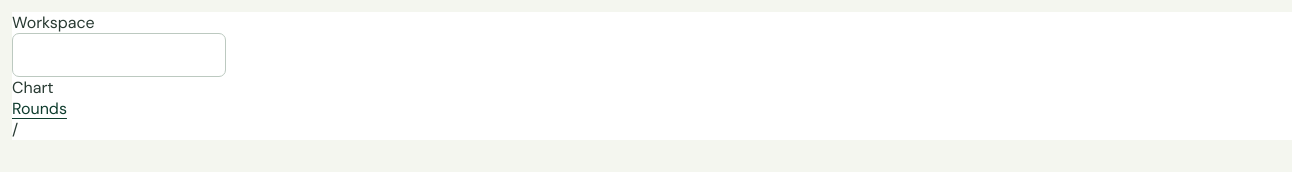
Test: Mobile navigation › supports direct links and keyboard shortcuts
Press ArrowRight in the text with test id "gesture", box [12,12,95,33]
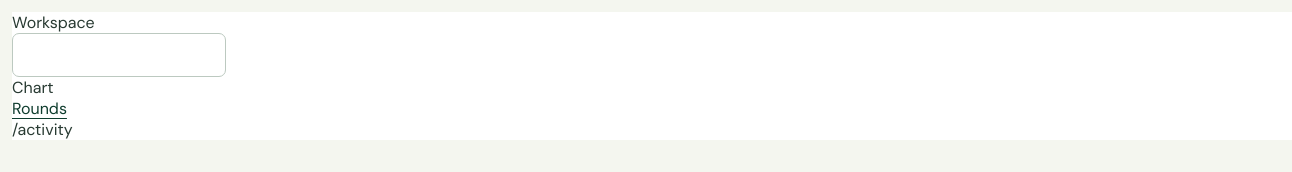
Check: the text named "Current route" reads "/activity", box [12,119,73,140]
Click the link "Rounds" at [39, 108], box [12,98,67,119]
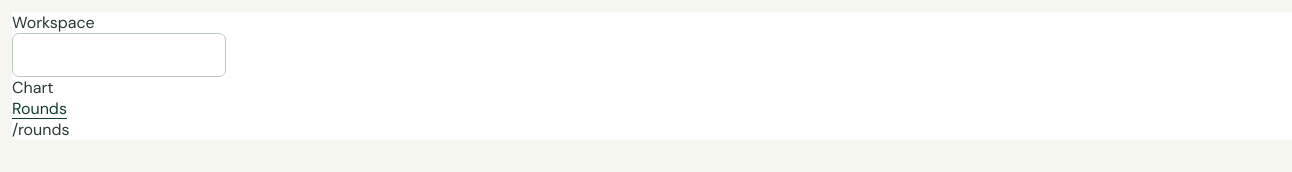
Check: the text named "Current route" reads "/rounds", box [12,119,70,140]
